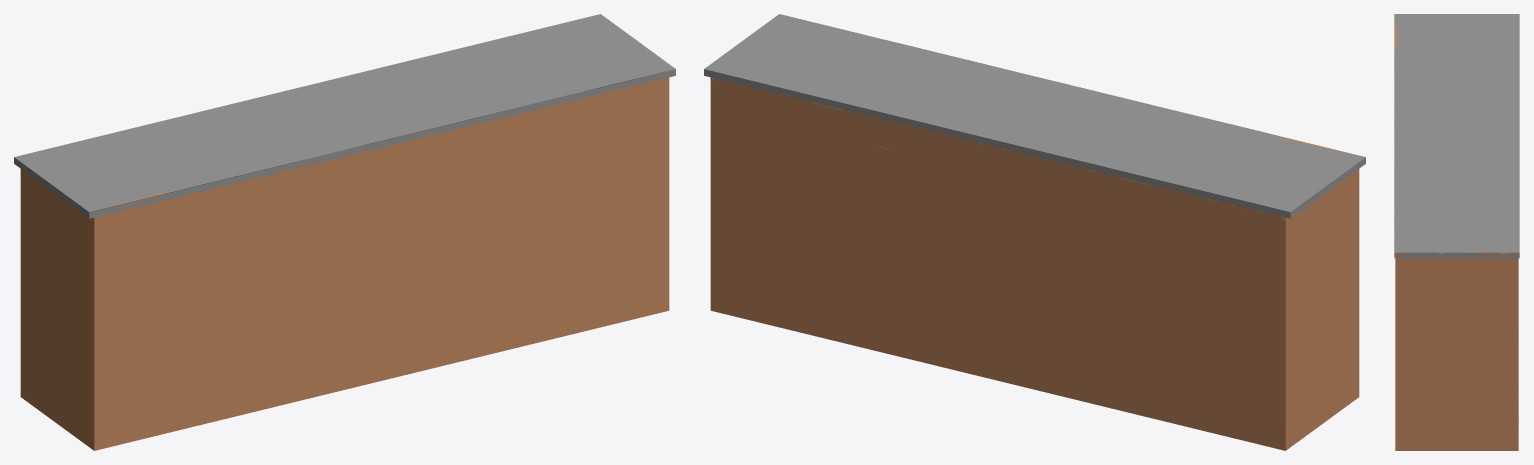
File: dressing_place.fbx
The picture shows the model from 3 angles, left to right: view 1: azimuth 30°, elevation 25°; view 2: azimuth 150°, elevation 25°; view 3: azimuth 270°, elevation 25°; orthographic projection. The views are drawn at different scales.
Visible parts, largest first — view 1: Cube; view 2: Cube; view 3: Cube.
Part boxes in pixels (<box>): Cube: <box>14,14,675,450</box>; Cube: <box>704,14,1365,450</box>; Cube: <box>1394,14,1519,450</box>.
Bounding box in the file's own units: 918 × 360 × 204.
